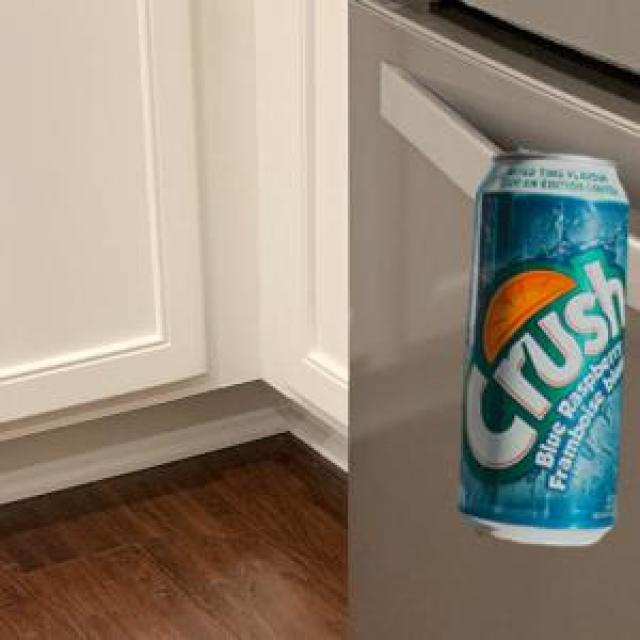logam: (455, 144, 626, 543)
